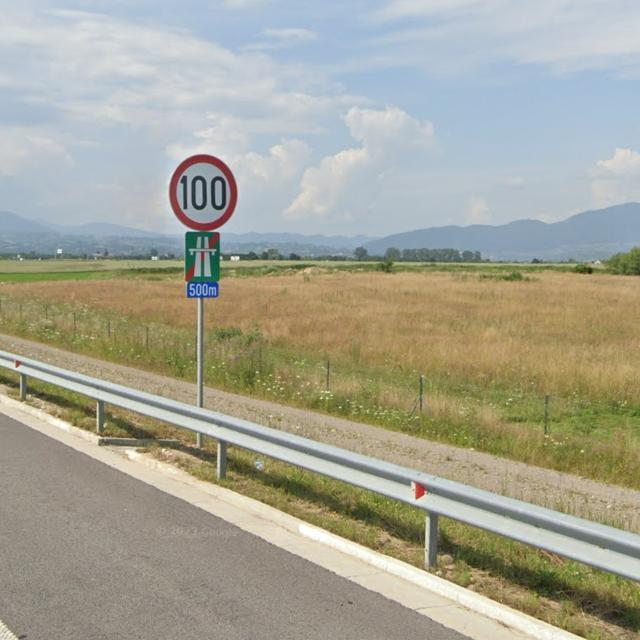forb_speed_over_100: (167, 153, 238, 232)
